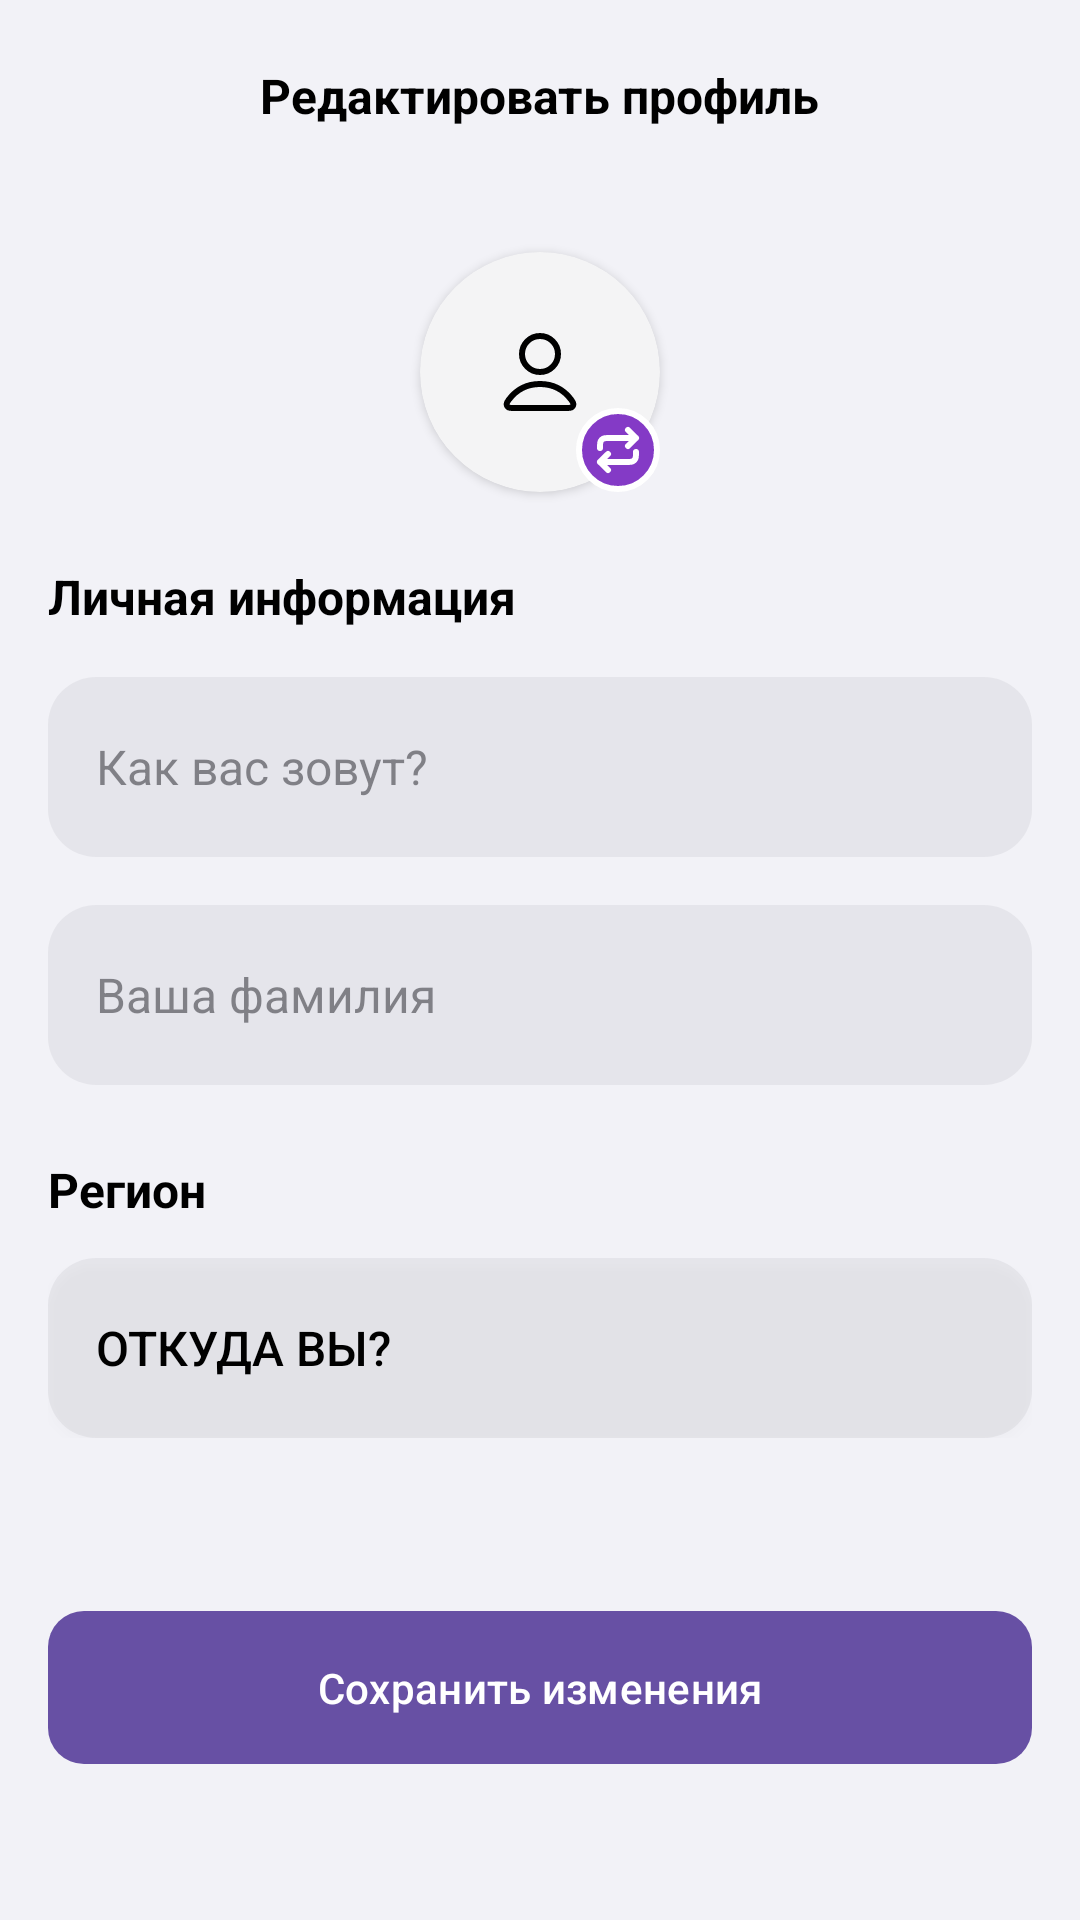

Where to tap for icons on this 1080 × 1920 app screen, as (x,y):
change: (615,450)
